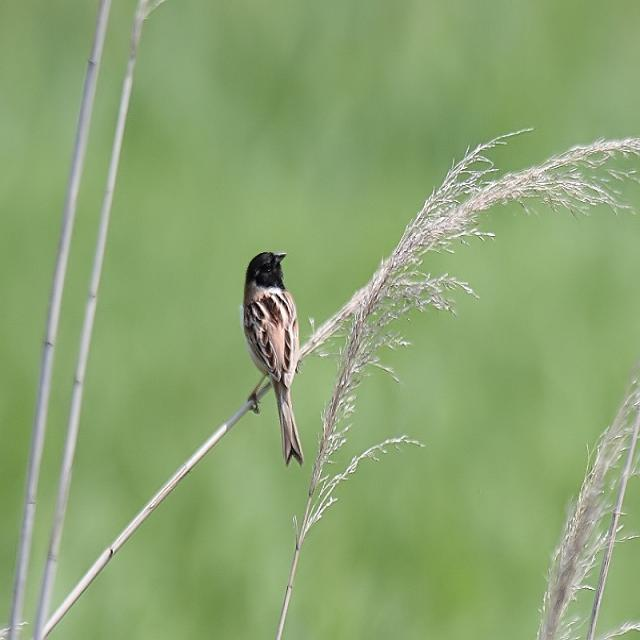bird: (236, 248, 300, 470)
